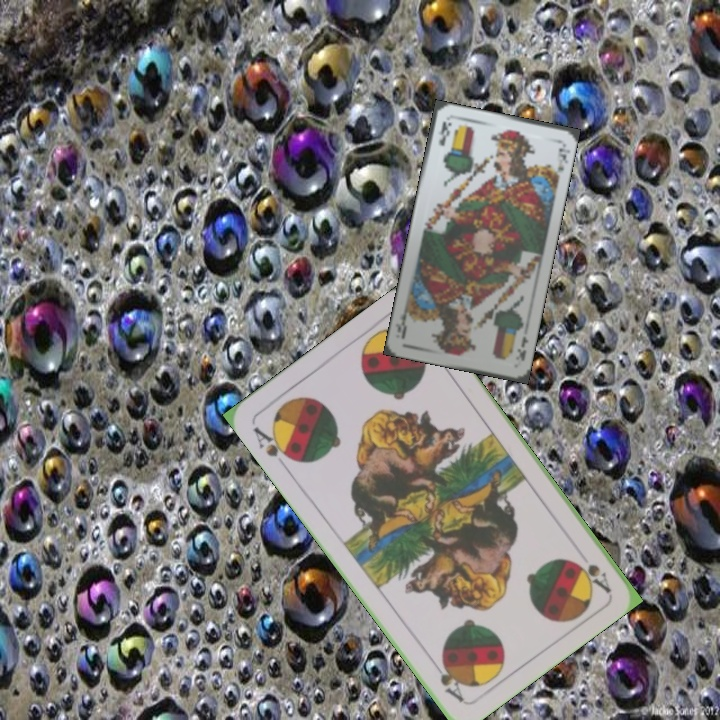EK: (435, 117, 454, 148), (513, 332, 531, 364)
SA: (248, 422, 298, 464), (571, 556, 614, 595)
